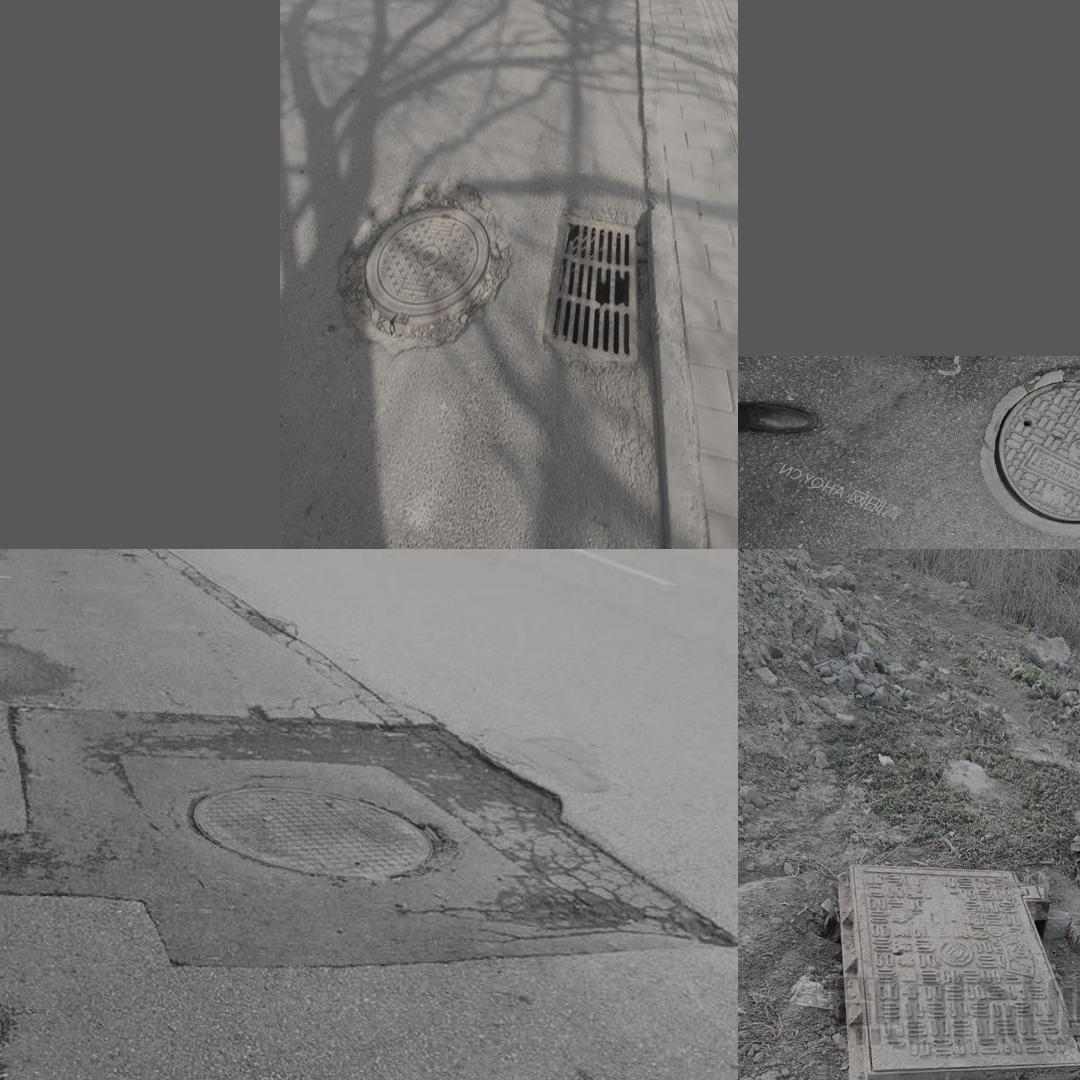circle: (28, 734, 620, 959), (828, 857, 1080, 1080), (337, 165, 516, 362), (967, 366, 1080, 535)
